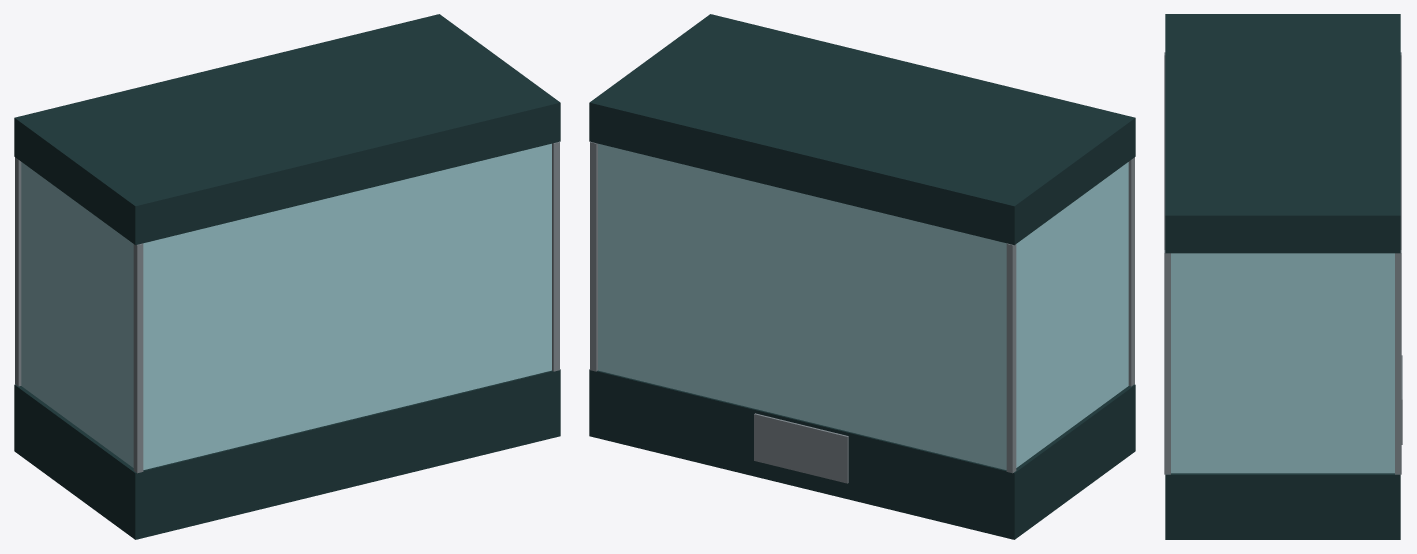
File: terrarium_unit.fbx
3 renders of one model, left to right at view 1: azimuth 30°, elevation 25°; view 2: azimuth 150°, elevation 25°; view 3: azimuth 270°, elevation 25°, orthographic. The views are drawn at different scales.
Parts seen in each view (by area): view 1: terrarium_unit; view 2: terrarium_unit; view 3: terrarium_unit.
Boxes of the visible parts, x1,y1,x2,y2 form: terrarium_unit: [14, 14, 560, 539]; terrarium_unit: [589, 14, 1135, 539]; terrarium_unit: [1164, 14, 1402, 539].
Bounding box in the file's own units: 4 × 3 × 2.
